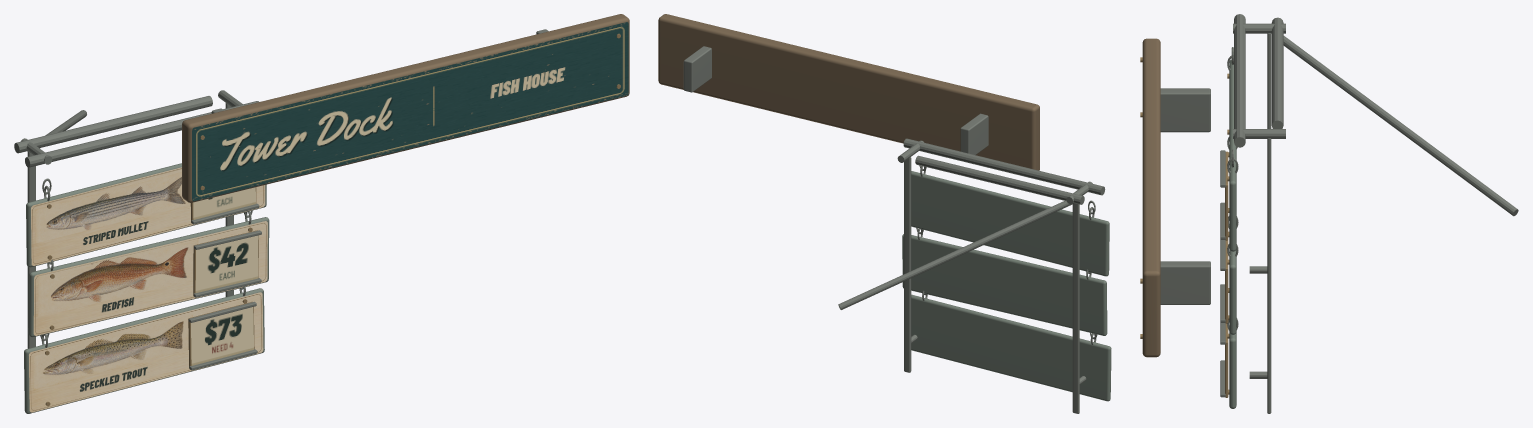
The model's file is fish-house-signs.glb.
3 renders of one model, left to right at view 1: azimuth 30°, elevation 25°; view 2: azimuth 150°, elevation 25°; view 3: azimuth 270°, elevation 25°, orthographic. The views are drawn at different scales.
Visible parts, largest first — view 1: fascia_tower, Fired ivory lettering, Galvanized brackets, Fascia board, Rolled porcelain edges, ticket_redfish, ticket_trout, ticket_mullet, Tarnished eyelets; view 2: Rolled porcelain edges, Fascia board, Galvanized brackets; view 3: Galvanized brackets, Fascia board, Rolled porcelain edges, Tarnished eyelets.
Part boxes in pixels (box(x1,y1,x2,y2)): fascia_tower: box(192, 22, 628, 201); Fired ivory lettering: box(29, 167, 267, 412); Galvanized brackets: box(14, 29, 548, 370); Fascia board: box(182, 14, 629, 202); Rolled porcelain edges: box(24, 163, 269, 413); ticket_redfish: box(195, 235, 258, 292); ticket_trout: box(191, 307, 253, 365); ticket_mullet: box(193, 187, 255, 219); Tarnished eyelets: box(45, 33, 620, 406); Rolled porcelain edges: box(902, 171, 1111, 401); Fascia board: box(658, 14, 1039, 170); Galvanized brackets: box(683, 46, 1105, 413); Galvanized brackets: box(1160, 14, 1518, 413); Fascia board: box(1142, 38, 1160, 357); Rolled porcelain edges: box(1229, 59, 1236, 408); Tarnished eyelets: box(1140, 57, 1229, 397).
Bounding box in the file's own units: 2.54 × 1.27 × 1.35.
Materials: 8 (4 with a texture image).
